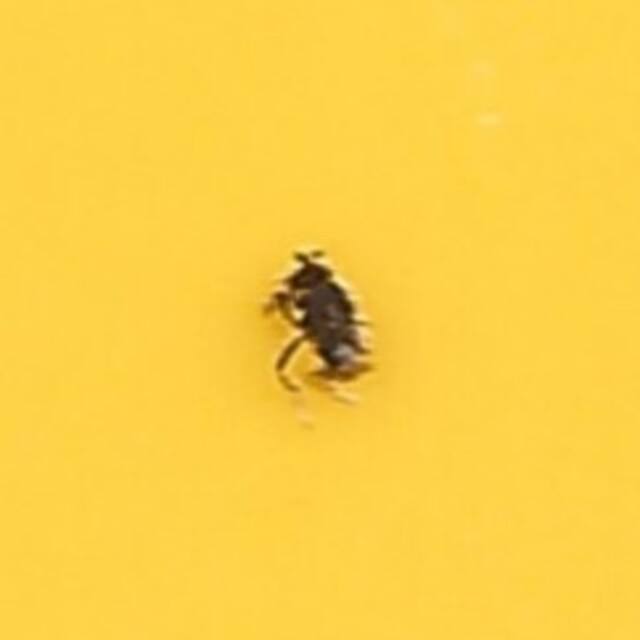Brachycera: (264, 247, 376, 393)
